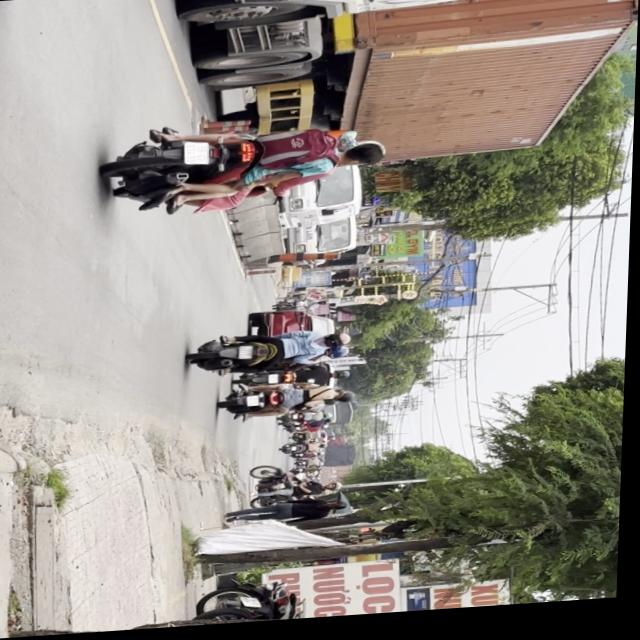licenseplate: (104, 116, 393, 219)
motorcyclist: (341, 143, 389, 171)
nohelmet: (186, 142, 211, 167)
